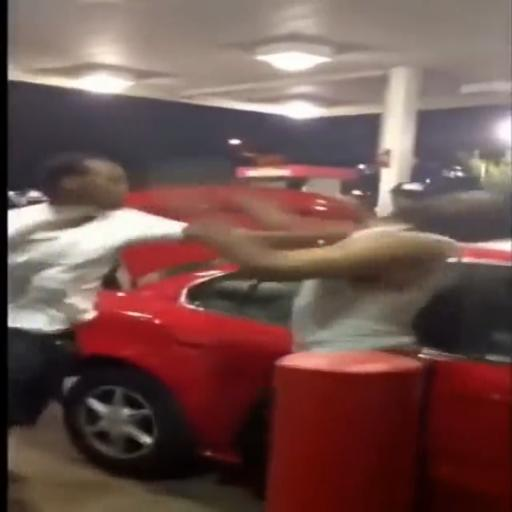violencia: (8, 140, 510, 359)
